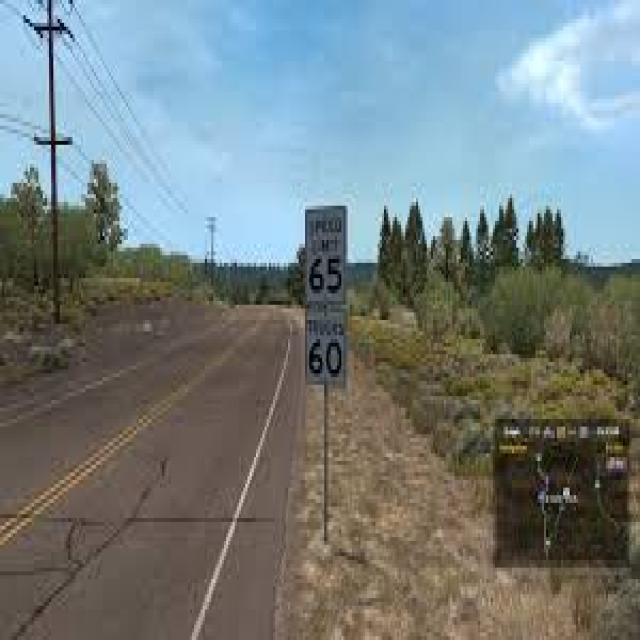speedLimit65: (296, 195, 350, 312)
